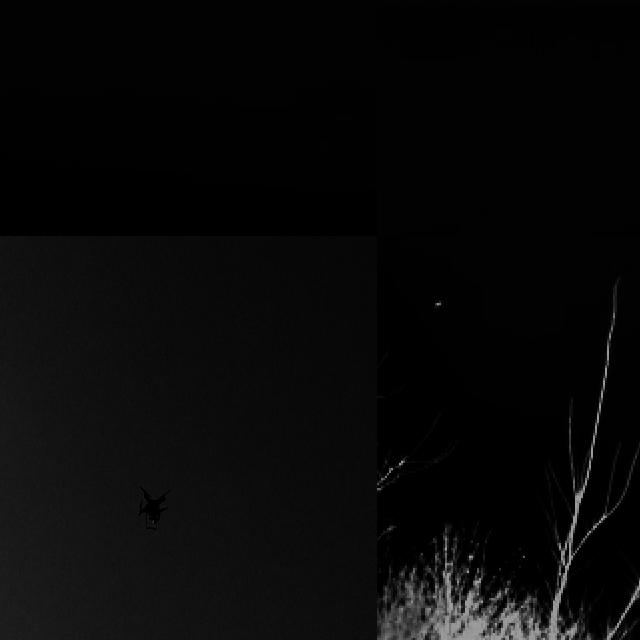0: (426, 292, 454, 324)
drone: (134, 480, 170, 530)
